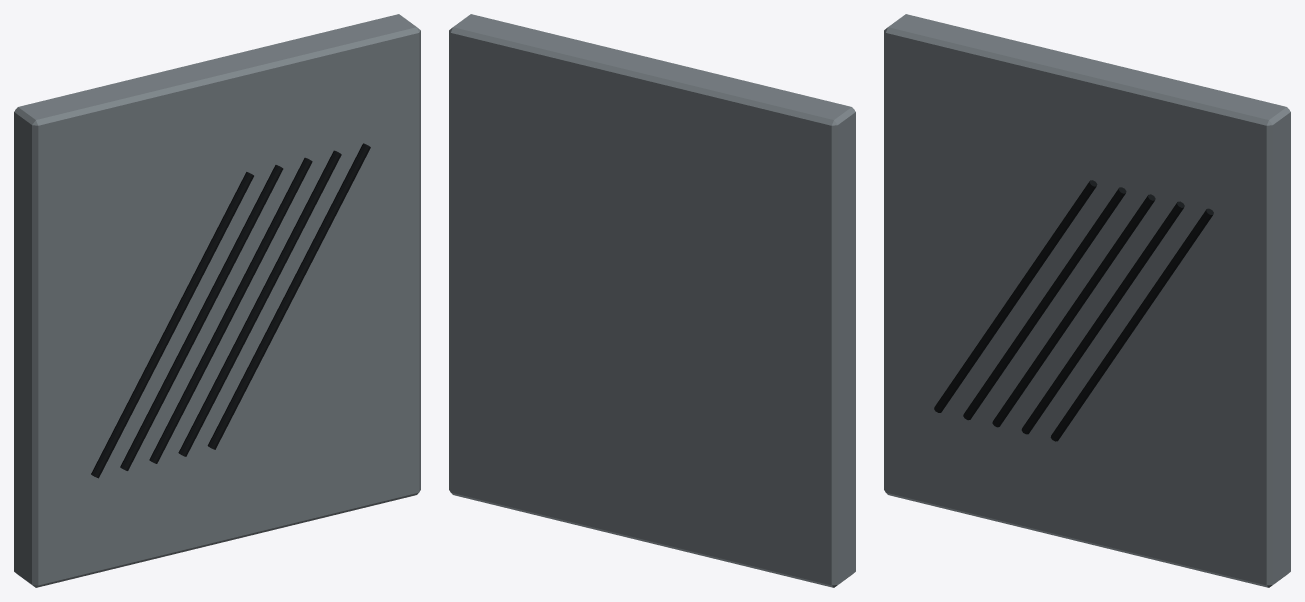
File: ScratchedMetalPanel.fbx
3 views of the same model, side by side, from view 1: azimuth 30°, elevation 25°; view 2: azimuth 150°, elevation 25°; view 3: azimuth 330°, elevation 25° (orthographic).
Visible parts, largest first — view 1: ScratchedMetalPanel; view 2: ScratchedMetalPanel; view 3: ScratchedMetalPanel.
Part boxes in pixels (x1,y1,x2,y2): ScratchedMetalPanel: [14, 14, 420, 587]; ScratchedMetalPanel: [449, 14, 855, 587]; ScratchedMetalPanel: [884, 14, 1290, 587].
Bounding box in the file's own units: 80 × 92 × 9.6.
Materials: 1 (1 with a texture image).
